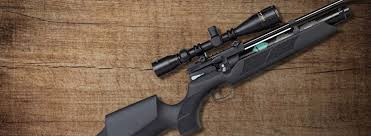gun: (88, 0, 352, 134)
